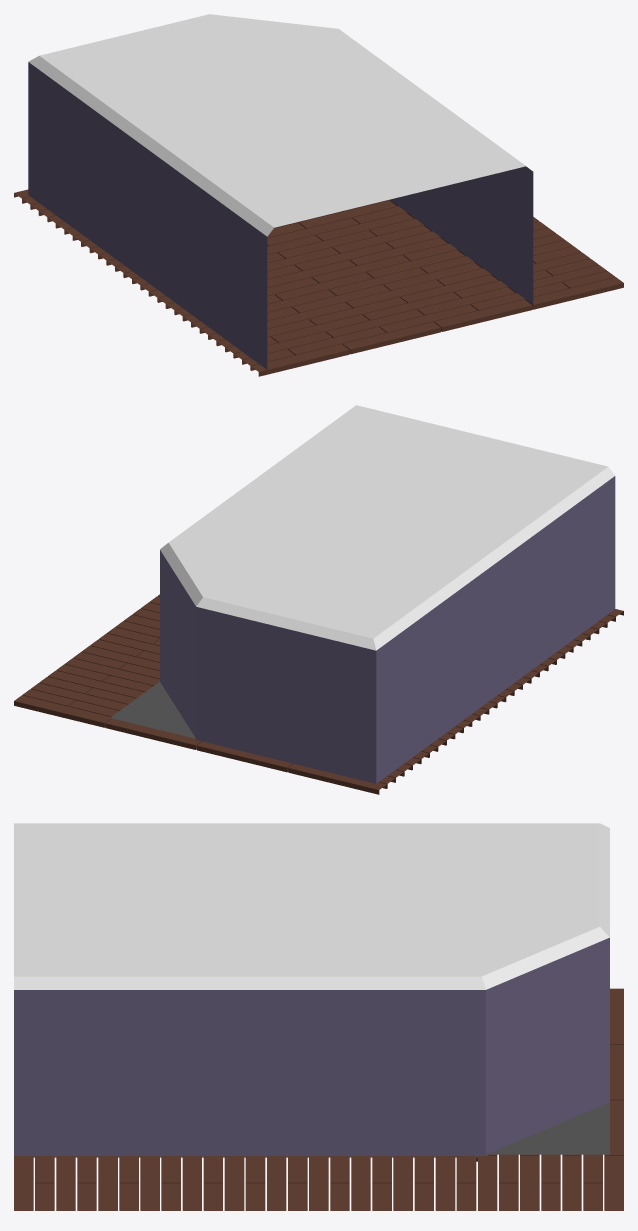
Rendered from livingRoom.fbx.
3 renders of one model, top to bottom at view 1: azimuth 30°, elevation 25°; view 2: azimuth 150°, elevation 25°; view 3: azimuth 270°, elevation 25°, orthographic. The views are drawn at different scales.
Parts seen in each view (by area): view 1: room; view 2: room; view 3: room.
Boxes of the visible parts, <box> form: room: <box>14,14,623,376</box>; room: <box>14,405,623,794</box>; room: <box>14,823,623,1210</box>.
Bounding box in the file's own units: 8.07 × 3.07 × 9.37.
